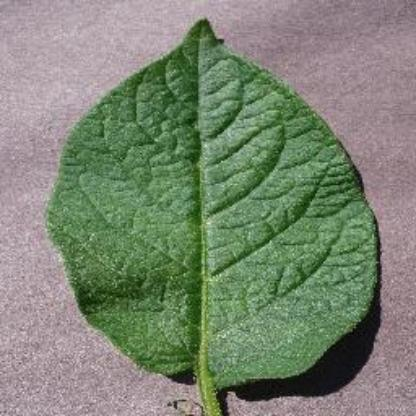Healthy-plant: (46, 15, 396, 396)
